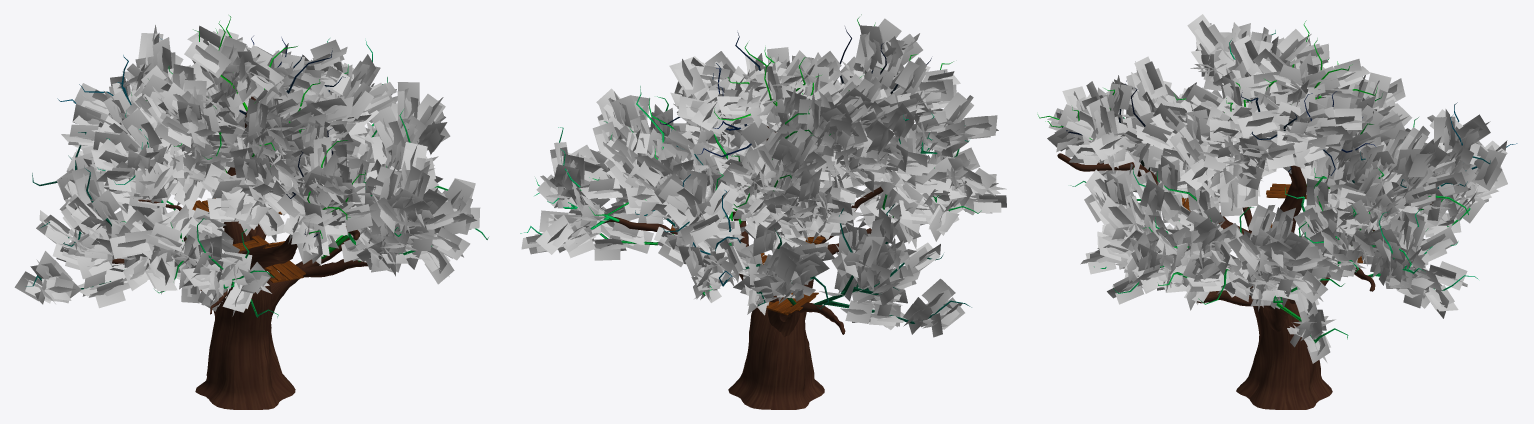
The model's file is tree3Full.fbx.
3 renders of one model, left to right at view 1: azimuth 30°, elevation 25°; view 2: azimuth 150°, elevation 25°; view 3: azimuth 270°, elevation 25°, orthographic. The views are drawn at different scales.
Parts seen in each view (by area): view 1: leaves1T3, leaves5T3, leaves9T3, trunkT3, leaves10T3, leaves3.2T3, fluff3, leaves8T3, leaves2T3, fluff2, leaves3T3, leaves9.4T3 (+28 smaller); view 2: leaves5T3, leaves9T3, leaves4.2T3, leaves3.2T3, trunkT3, leaves6T3, leaves5.2T3, leaves2T3, fluff4, leaves8T3, fluff5, leaves10T3 (+34 smaller); view 3: leaves9T3, leaves1T3, leaves2T3, leaves10T3, leaves6T3, trunkT3, leaves4T3, fluff1, leaves7T3, leaves2.2T3, leaves4.2T3, fluff7 (+30 smaller).
Part boxes in pixels (x1=…): leaves1T3: x1=341, y1=152, x2=488, y2=284; leaves5T3: x1=14, y1=132, x2=130, y2=308; leaves9T3: x1=184, y1=15, x2=356, y2=115; trunkT3: x1=195, y1=250, x2=295, y2=409; leaves10T3: x1=277, y1=128, x2=378, y2=265; leaves3.2T3: x1=109, y1=200, x2=250, y2=303; fluff3: x1=151, y1=80, x2=239, y2=208; leaves8T3: x1=91, y1=109, x2=175, y2=208; leaves2T3: x1=335, y1=82, x2=449, y2=241; fluff2: x1=204, y1=150, x2=295, y2=241; leaves3T3: x1=180, y1=218, x2=278, y2=317; leaves9.4T3: x1=230, y1=46, x2=322, y2=166; leaves5T3: x1=813, y1=203, x2=968, y2=337; leaves9T3: x1=658, y1=32, x2=816, y2=156; leaves4.2T3: x1=658, y1=169, x2=750, y2=288; leaves3.2T3: x1=856, y1=157, x2=1006, y2=249; trunkT3: x1=728, y1=279, x2=824, y2=409; leaves6T3: x1=520, y1=127, x2=619, y2=258; leaves5.2T3: x1=733, y1=219, x2=834, y2=315; leaves2T3: x1=594, y1=88, x2=675, y2=260; fluff4: x1=816, y1=120, x2=936, y2=194; leaves8T3: x1=887, y1=92, x2=998, y2=184; fluff5: x1=744, y1=128, x2=826, y2=250; leaves10T3: x1=839, y1=14, x2=960, y2=94; leaves9T3: x1=1237, y1=21, x2=1377, y2=175; leaves1T3: x1=1081, y1=155, x2=1209, y2=310; leaves2T3: x1=1221, y1=204, x2=1357, y2=363; leaves10T3: x1=1038, y1=75, x2=1153, y2=192; leaves6T3: x1=1368, y1=209, x2=1477, y2=318; trunkT3: x1=1236, y1=303, x2=1332, y2=409; leaves4T3: x1=1328, y1=126, x2=1490, y2=206; fluff1: x1=1136, y1=103, x2=1242, y2=216; leaves7T3: x1=1306, y1=168, x2=1468, y2=234; leaves2.2T3: x1=1143, y1=171, x2=1243, y2=304; leaves4.2T3: x1=1427, y1=103, x2=1517, y2=226; fluff7: x1=1198, y1=101, x2=1291, y2=208.
Size of the model in its own units: 1246 by 1045 by 1299.
